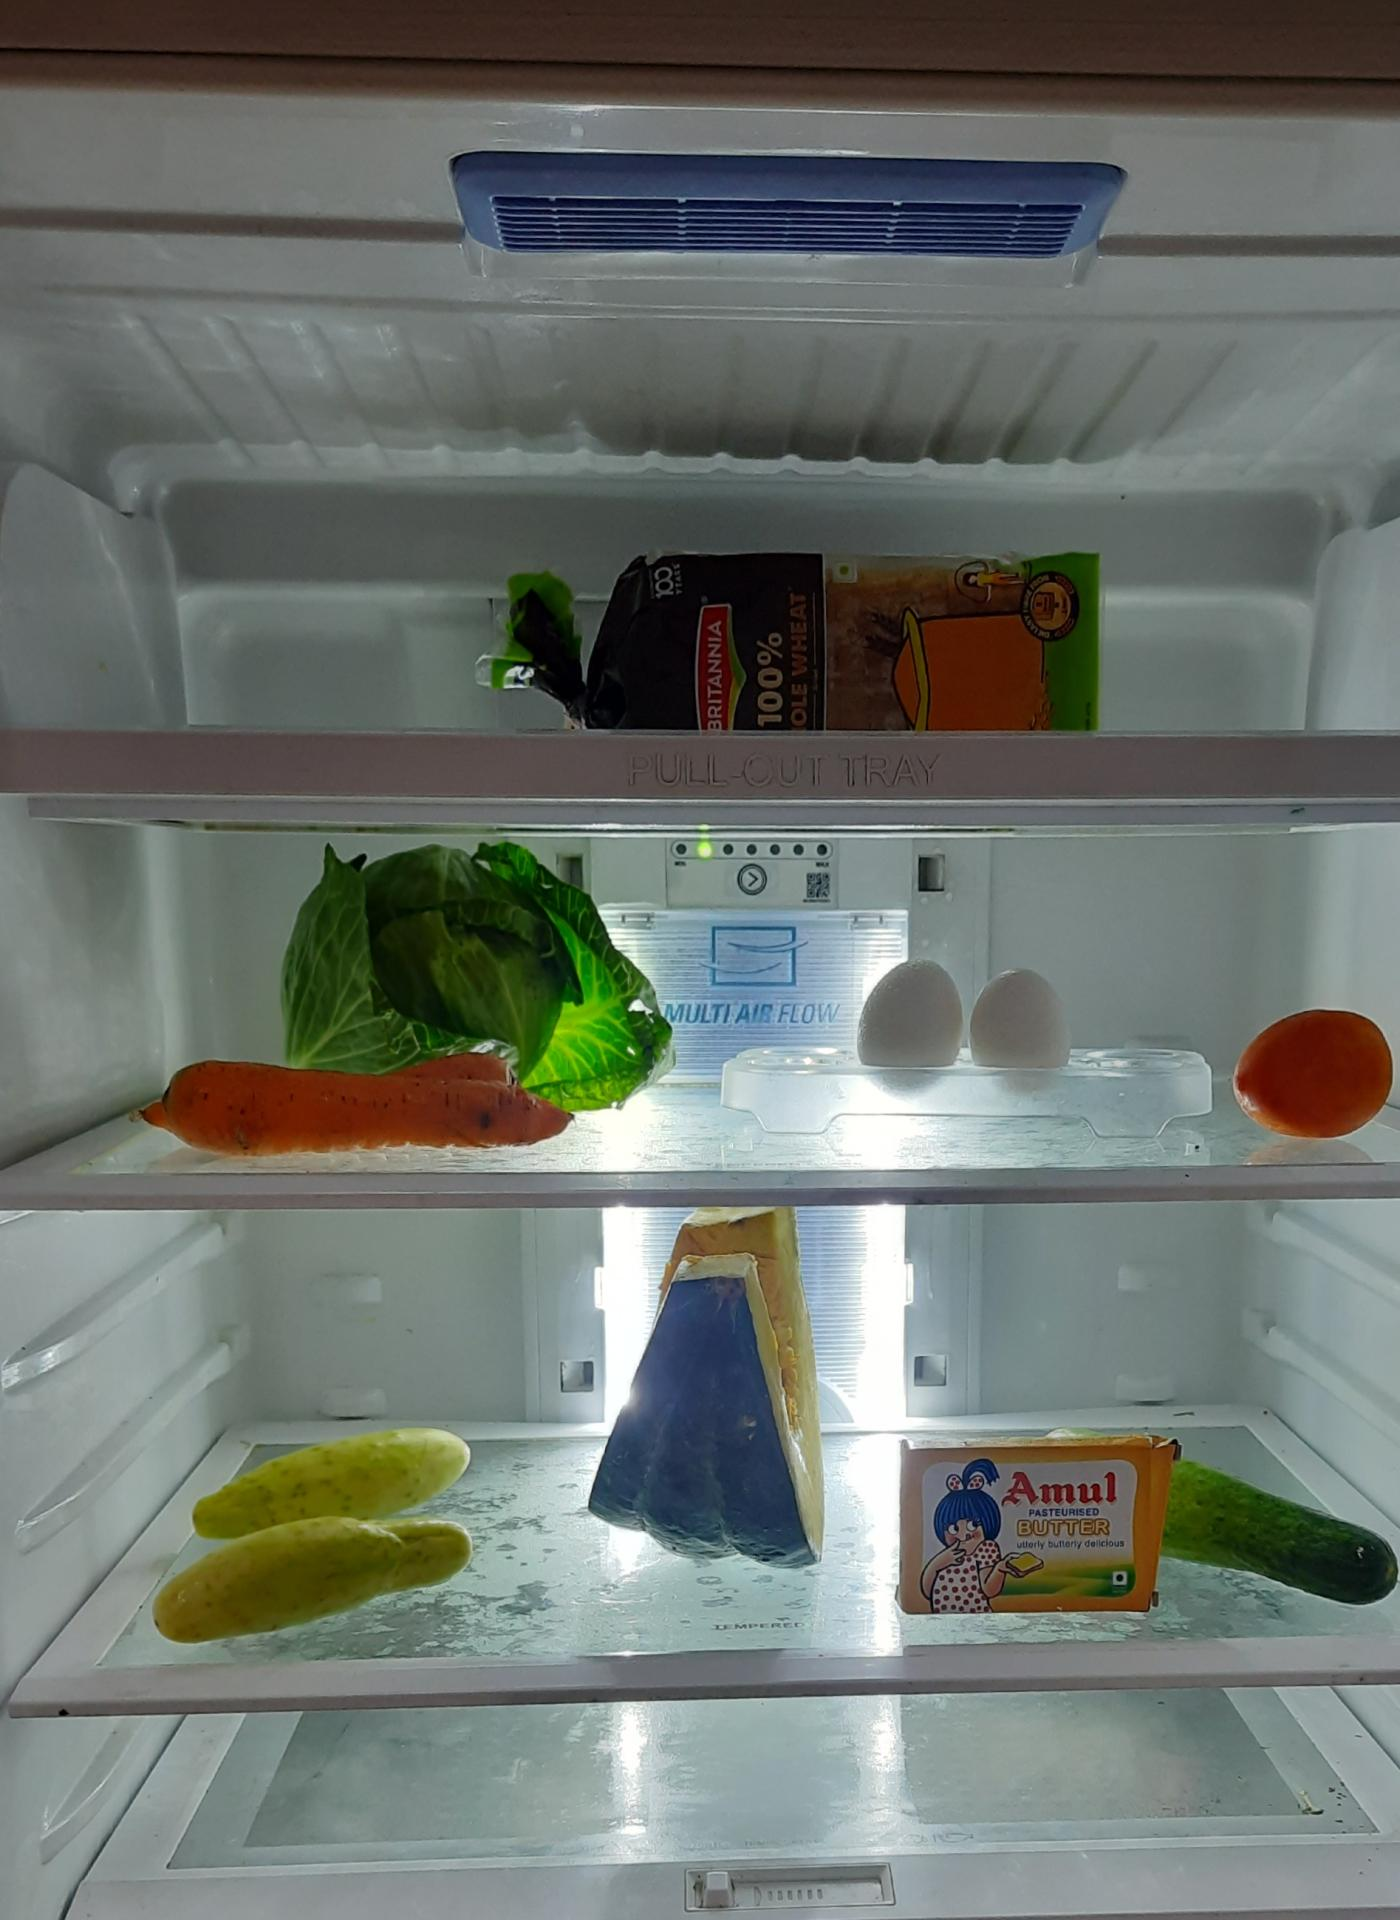bread: (529, 531, 1117, 716)
butter: (905, 1433, 1182, 1620)
cabbage: (276, 851, 663, 1096)
carrots: (145, 1048, 573, 1154)
cucumber: (154, 1450, 480, 1658), (1164, 1461, 1396, 1611)
egg: (850, 945, 1084, 1097)
pumpkin: (592, 1216, 832, 1568)
tomato: (1229, 1006, 1397, 1140)
